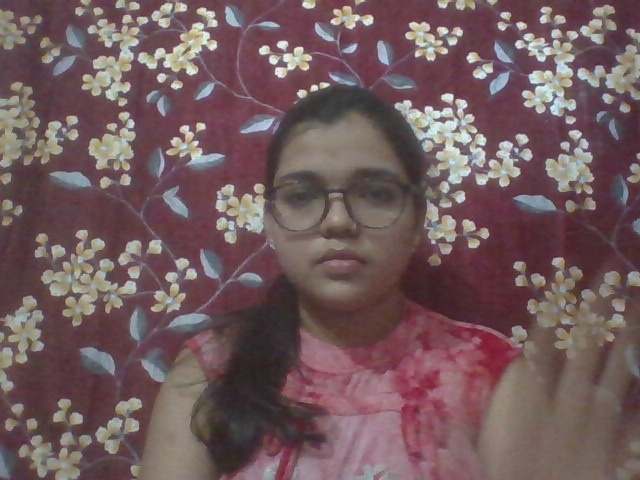Blured: (476, 252, 640, 477)
